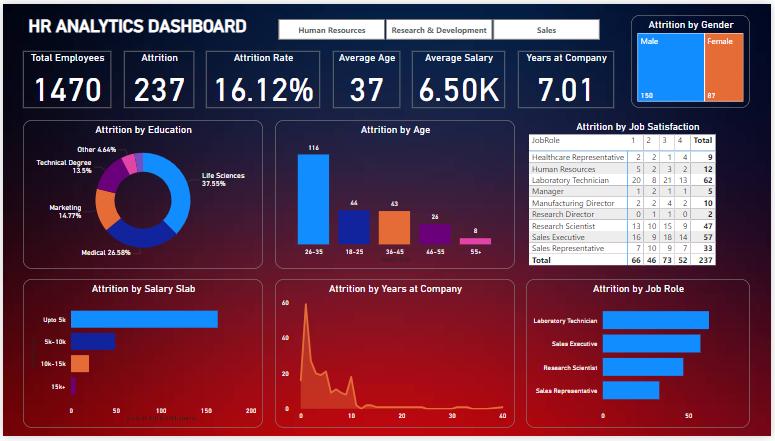

The page's visual inventory and layout, read from the dashboard file:
{"tool":"powerbi","page":{"name":"Page 1","canvas":[1280,720],"ordinal":0},"visuals":[{"type":"card","title":"Total Employees","fields":{"Values":["Count(HR_Analytics.EmpID)"]},"box":[33.3,78.3,146.7,95],"z":0},{"type":"card","title":"Attrition","fields":{"Values":["Sum(HR_Analytics.AttritionNumeric)"]},"box":[201,78.3,116.7,95],"z":1000},{"type":"card","title":"Attrition Rate","fields":{"Values":["Measure Table.Attrition Rate"]},"box":[338.7,78.3,190,95],"z":2000},{"type":"card","title":"Average Age","fields":{"Values":["Avg(HR_Analytics.Age)"]},"box":[549.7,78.3,111.7,95],"z":3000},{"type":"card","title":"Average Salary","fields":{"Values":["Avg(HR_Analytics.MonthlyIncome)"]},"box":[682.3,78.3,155,95],"z":4000},{"type":"card","title":"Years at Company","fields":{"Values":["Avg(HR_Analytics.YearsAtCompany)"]},"box":[858.3,78.3,160,95],"z":5000},{"type":"donutChart","title":"Attrition by Education","fields":{"Category":["HR_Analytics.EducationField"],"Y":["Sum(HR_Analytics.AttritionNumeric)"]},"box":[33.3,193.3,400,248.3],"z":6000},{"type":"clusteredColumnChart","title":"Attrition by Age","fields":{"Category":["HR_Analytics.AgeGroup"],"Y":["Sum(HR_Analytics.AttritionNumeric)"]},"box":[453.3,193.3,400,248.3],"z":7000},{"type":"pivotTable","title":"Attrition by Job Satisfaction","fields":{"Rows":["HR_Analytics.JobRole"],"Columns":["HR_Analytics.JobSatisfaction"],"Values":["Sum(HR_Analytics.AttritionNumeric)"]},"box":[871.7,193.3,373.3,248.3],"z":8000},{"type":"barChart","title":"Attrition by Salary Slab","fields":{"Category":["HR_Analytics.SalarySlab"],"Y":["Sum(HR_Analytics.AttritionNumeric)"]},"box":[33.3,458.3,400,248.3],"z":8001},{"type":"areaChart","title":"Attrition by Years at Company","fields":{"Y":["Sum(HR_Analytics.AttritionNumeric)"],"Category":["HR_Analytics.YearsAtCompany"]},"box":[453.3,458.3,400,248.3],"z":8002},{"type":"barChart","title":"Attrition by Job Role","fields":{"Category":["HR_Analytics.JobRole"],"Y":["Sum(HR_Analytics.AttritionNumeric)"]},"box":[871.7,458.3,373.3,248.3],"z":8003},{"type":"treemap","title":"Attrition by Gender","fields":{"Group":["HR_Analytics.Gender"],"Values":["Sum(HR_Analytics.AttritionNumeric)"]},"box":[1046.7,18.3,198.3,155],"z":8004},{"type":"slicer","fields":{"Values":["HR_Analytics.Department"]},"box":[433.3,18.3,585,48.3],"z":8005},{"type":"textbox","box":[33.3,15,381.7,51.7],"z":8006}]}

Visuals, with their boxes in screenshot pixels (x1, y1, x2, y2), scaled from the page's 1280x720 canvas onto the 775x441 screenshot:
"Total Employees" card: 20,48,109,106
"Attrition" card: 122,48,192,106
"Attrition Rate" card: 205,48,320,106
"Average Age" card: 333,48,400,106
"Average Salary" card: 413,48,507,106
"Years at Company" card: 520,48,617,106
"Attrition by Education" donutChart: 20,118,262,270
"Attrition by Age" clusteredColumnChart: 274,118,517,270
"Attrition by Job Satisfaction" pivotTable: 528,118,754,270
"Attrition by Salary Slab" barChart: 20,281,262,433
"Attrition by Years at Company" areaChart: 274,281,517,433
"Attrition by Job Role" barChart: 528,281,754,433
"Attrition by Gender" treemap: 634,11,754,106
slicer - HR_Analytics.Department: 262,11,617,41
textbox: 20,9,251,41
